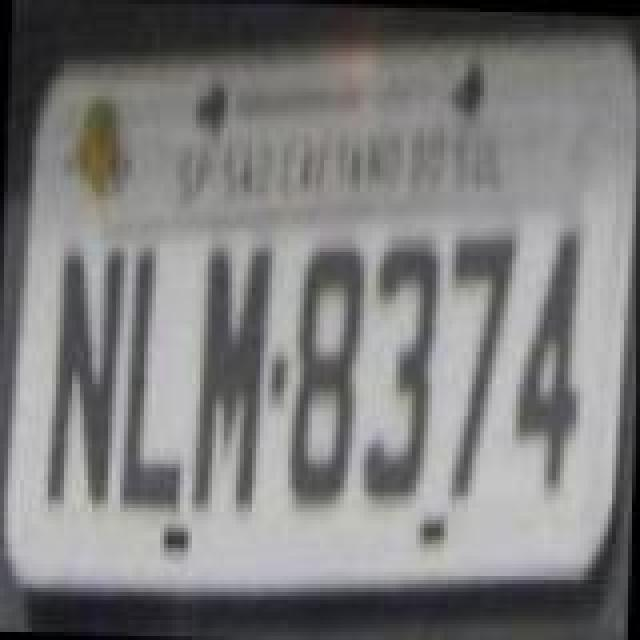3: (356, 228, 436, 508)
4: (510, 230, 586, 490)
7: (440, 226, 512, 502)
8: (286, 232, 362, 508)
L: (120, 240, 192, 516)
M: (192, 238, 272, 514)
N: (44, 244, 124, 508)
